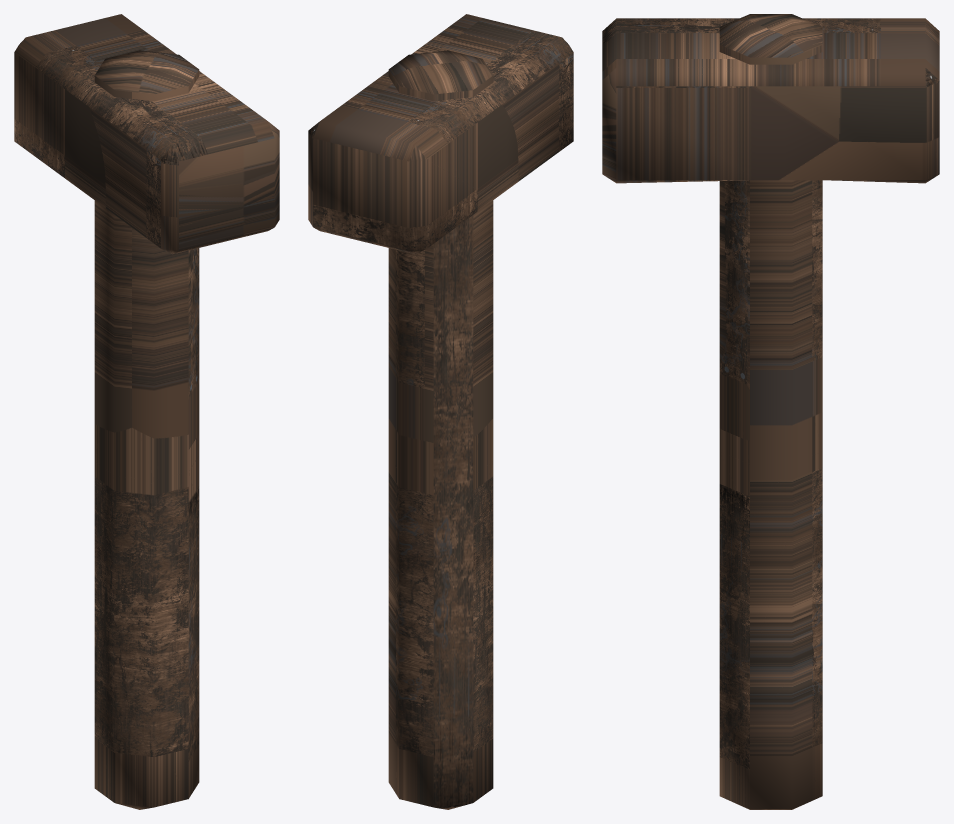
File: Hammer.fbx
The picture shows the model from 3 angles, left to right: view 1: azimuth 30°, elevation 25°; view 2: azimuth 150°, elevation 25°; view 3: azimuth 270°, elevation 25°; orthographic projection. The views are drawn at different scales.
Parts seen in each view (by area): view 1: Cube, Cube.001; view 2: Cube, Cube.001; view 3: Cube, Cube.001.
Part boxes in pixels (<box>): Cube: <box>94,50,199,809</box>; Cube.001: <box>14,14,279,254</box>; Cube: <box>388,50,493,809</box>; Cube.001: <box>308,14,573,254</box>; Cube: <box>719,14,822,809</box>; Cube.001: <box>602,18,939,183</box>.
Bounding box in the file's own units: 73.95 × 437 × 173.
